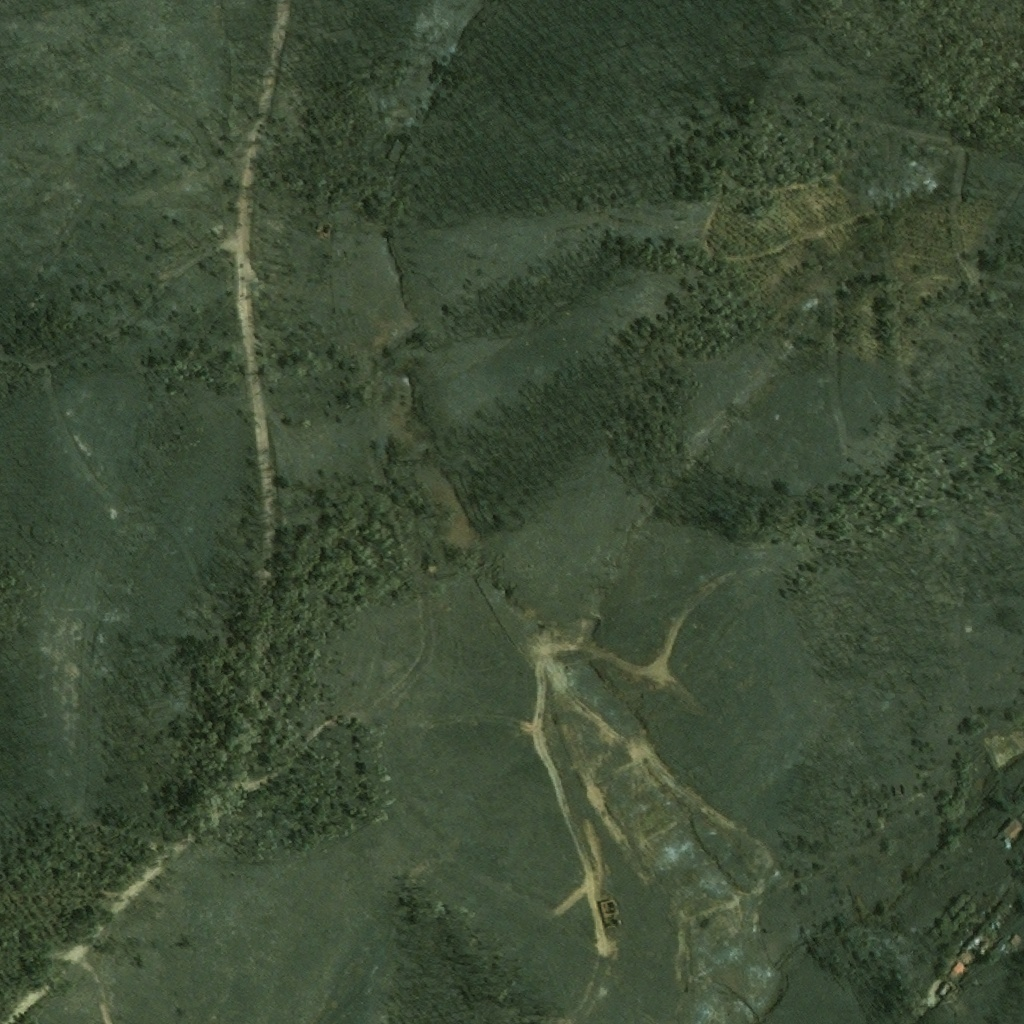0 no-damage: (1005, 821, 1021, 840), (949, 962, 965, 977), (1007, 936, 1019, 947)
3 destroyed: (935, 982, 955, 1001), (984, 919, 1000, 934), (600, 900, 612, 911)
4 un-classified: (956, 935, 988, 965)
